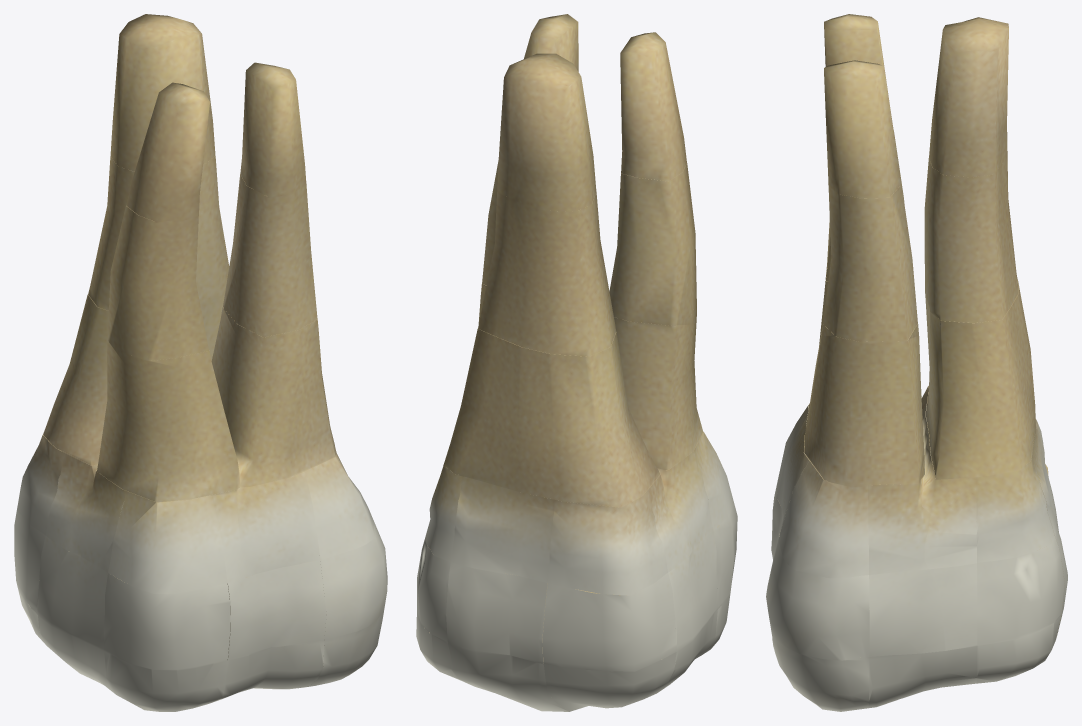
Rendered from Left_Upper_Second_Molar.glb.
3 views of the same model, side by side, from view 1: azimuth 30°, elevation 25°; view 2: azimuth 150°, elevation 25°; view 3: azimuth 270°, elevation 25° (orthographic).
Visible parts, largest first — view 1: Human_Teeth_Upper_Second_Molar_Geo.002; view 2: Human_Teeth_Upper_Second_Molar_Geo.002; view 3: Human_Teeth_Upper_Second_Molar_Geo.002.
Part boxes in pixels (<box>): Human_Teeth_Upper_Second_Molar_Geo.002: <box>14,14,387,711</box>; Human_Teeth_Upper_Second_Molar_Geo.002: <box>416,14,737,711</box>; Human_Teeth_Upper_Second_Molar_Geo.002: <box>766,14,1067,711</box>.
Size of the model in its own units: 1.46 by 3.19 by 1.36.
Materials: 30 (30 with a texture image).
